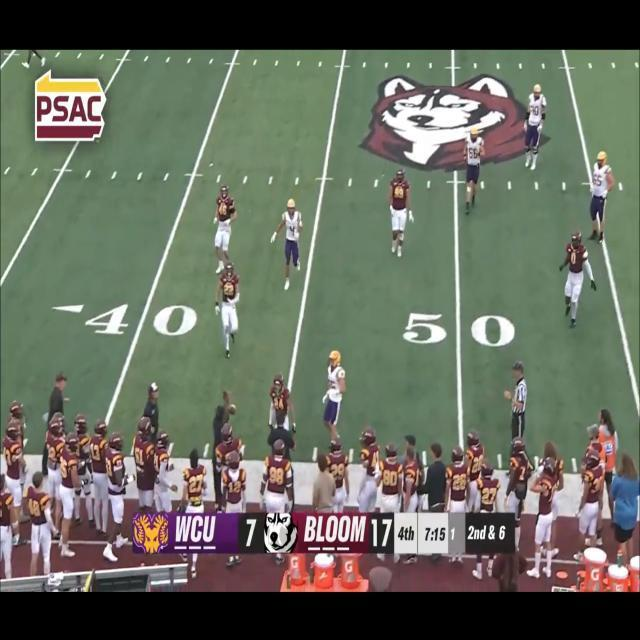football: (228, 400, 238, 418)
